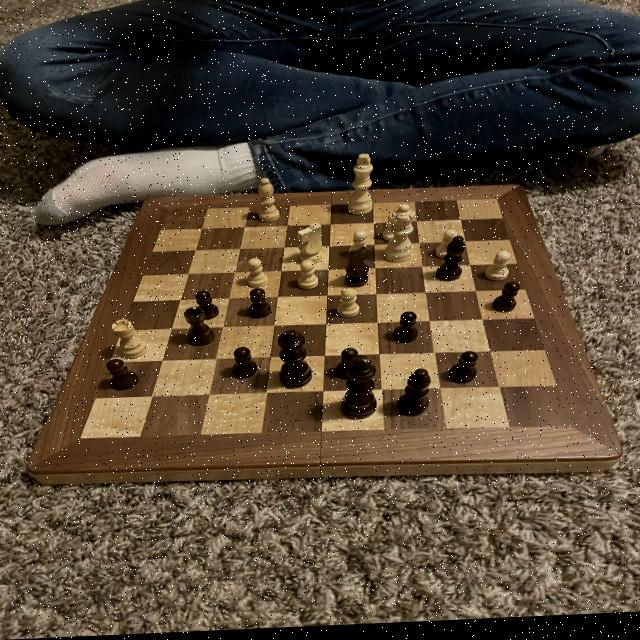bishop: (392, 370, 437, 423), (433, 238, 466, 288)
black-bishop: (337, 357, 379, 424)
black-king: (340, 247, 373, 294)
black-knight: (103, 357, 143, 395), (445, 354, 481, 391), (488, 284, 524, 320), (333, 348, 366, 385), (229, 347, 260, 385), (244, 287, 274, 324), (390, 313, 419, 351), (192, 289, 222, 324)
black-pawn: (273, 330, 316, 396)
black-queen: (182, 306, 218, 351)
black-rook: (254, 177, 282, 228)
white-bishop: (345, 152, 376, 222)
white-king: (296, 223, 325, 269)
white-knight: (482, 254, 516, 288), (431, 231, 462, 266), (334, 290, 362, 324), (346, 231, 372, 264), (246, 258, 270, 292), (296, 261, 320, 294), (379, 216, 400, 247)
white-pawn: (380, 206, 416, 269)
white-queen: (110, 317, 150, 363)
